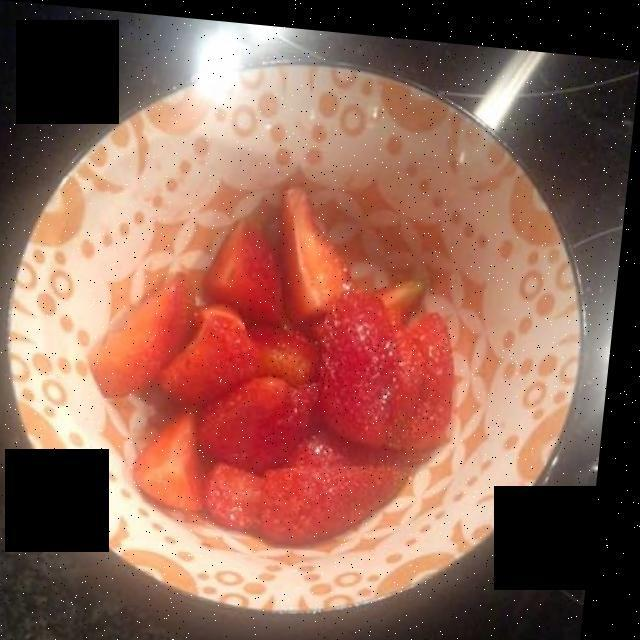strawberries: (99, 182, 466, 534)
